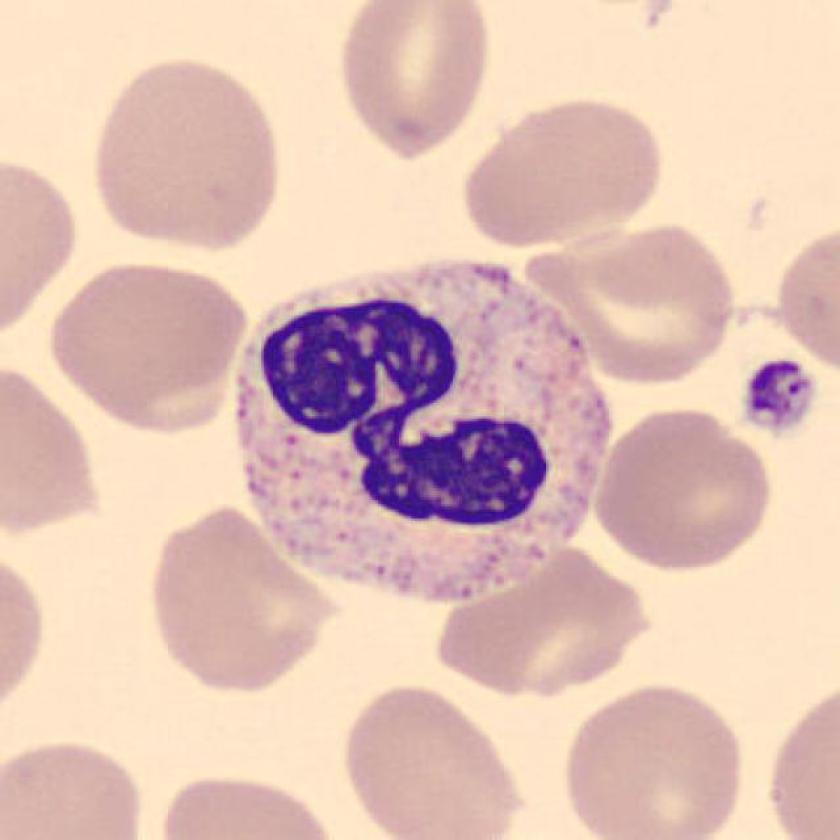neutrophil: (239, 261, 612, 607)
